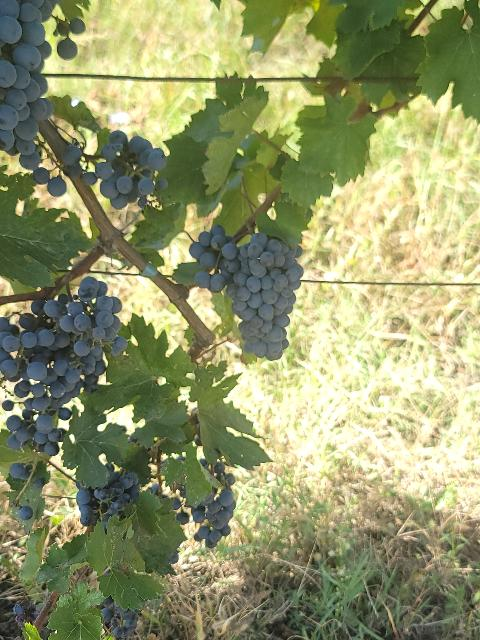grapes: (189, 225, 304, 360), (0, 300, 82, 456), (42, 276, 128, 389), (95, 130, 168, 209)
